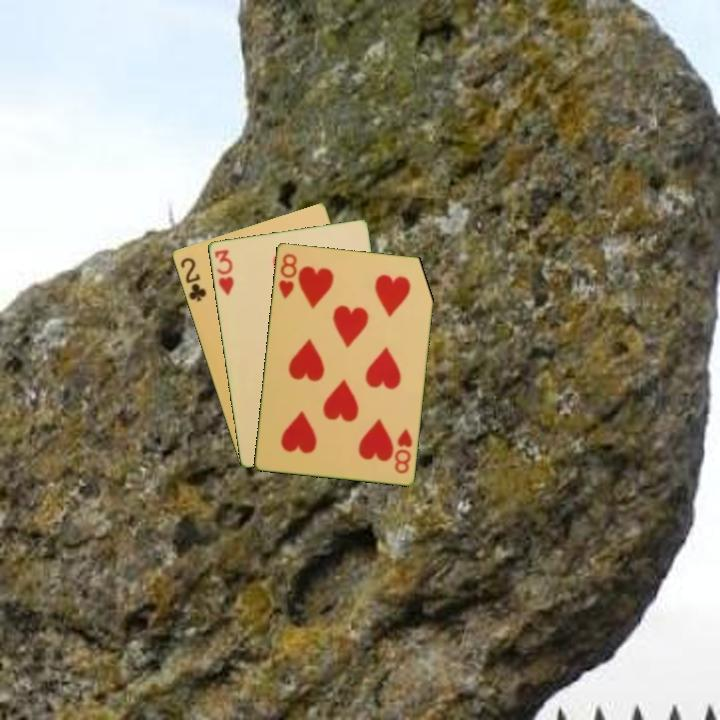2c: (176, 254, 209, 304)
3h: (211, 245, 236, 298)
8h: (275, 250, 299, 302), (391, 424, 415, 476)
